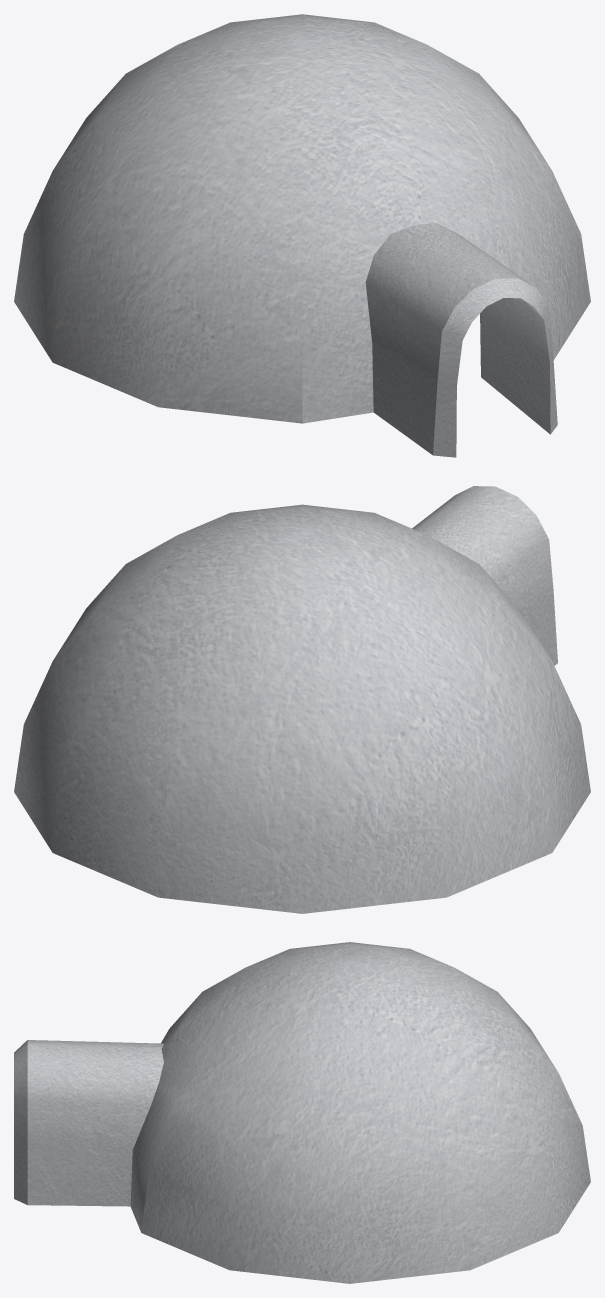
The model's file is Igloo.fbx.
The picture shows the model from 3 angles, top to bottom: view 1: azimuth 30°, elevation 25°; view 2: azimuth 150°, elevation 25°; view 3: azimuth 270°, elevation 25°; orthographic projection. The views are drawn at different scales.
Visible parts, largest first — view 1: Igloo; view 2: Igloo; view 3: Igloo.
Boxes of the visible parts, x1=… form: Igloo: x1=14, y1=14, x2=590, y2=457; Igloo: x1=14, y1=486, x2=590, y2=913; Igloo: x1=14, y1=942, x2=590, y2=1283.
Bounding box in the file's own units: 3.18 × 1.59 × 3.8.
